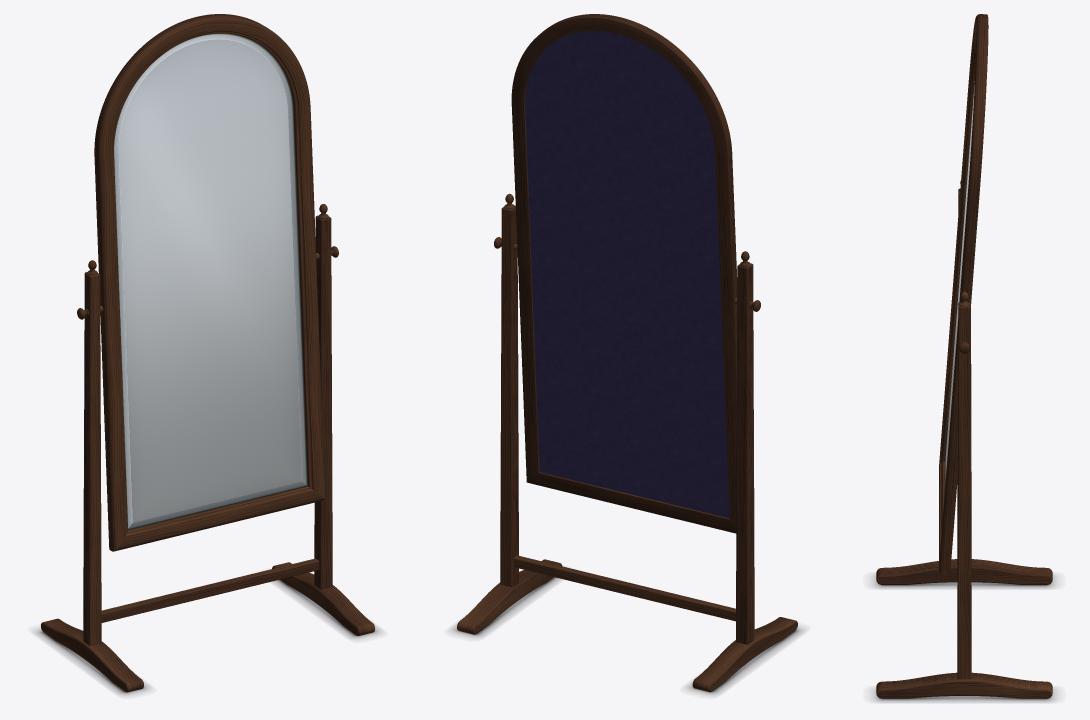
Rendered from mirror-unlit.glb.
The picture shows the model from 3 angles, left to right: view 1: azimuth 30°, elevation 25°; view 2: azimuth 150°, elevation 25°; view 3: azimuth 270°, elevation 25°; orthographic projection.
Parts seen in each view (by area): view 1: mirror; view 2: mirror; view 3: mirror.
Part boxes in pixels (bbox=[...]): mirror: bbox=[35, 14, 380, 695]; mirror: bbox=[451, 14, 803, 694]; mirror: bbox=[873, 14, 1055, 702].
Size of the model in its own units: 0.8426 by 1.76 by 0.58.
Materials: 5 (5 with a texture image).
